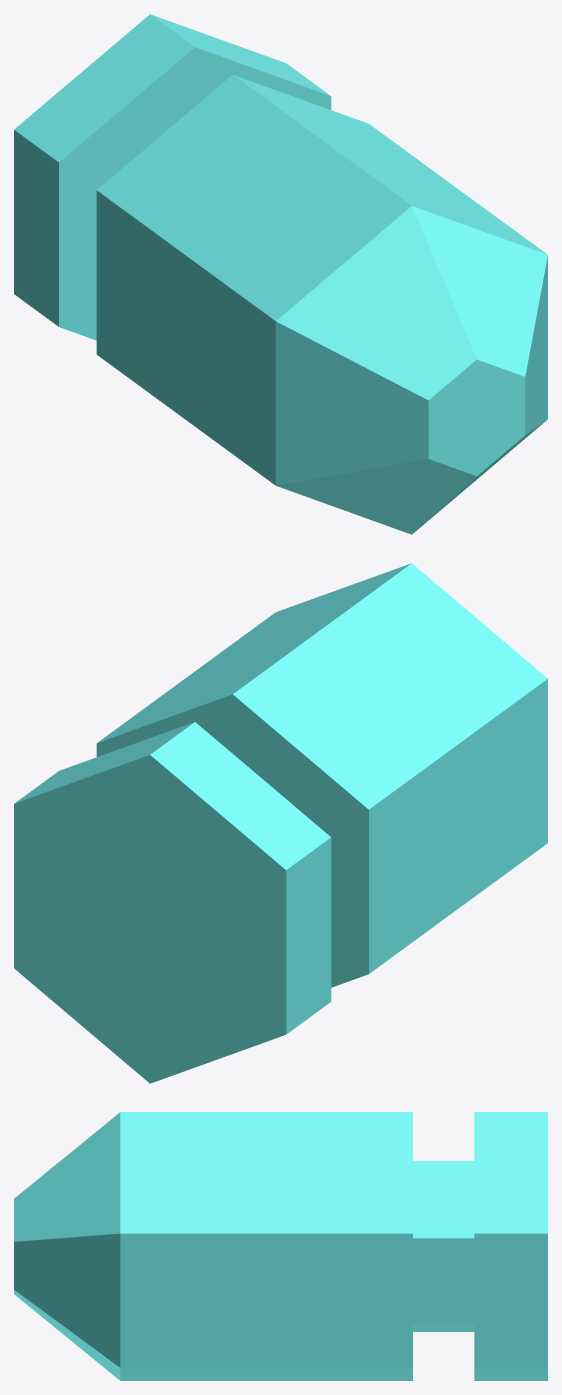
The model's file is PistolBullet.fbx.
The picture shows the model from 3 angles, top to bottom: view 1: azimuth 30°, elevation 25°; view 2: azimuth 150°, elevation 25°; view 3: azimuth 270°, elevation 25°; orthographic projection. The views are drawn at different scales.
Visible parts, largest first — view 1: PistolBullet; view 2: PistolBullet; view 3: PistolBullet.
Part boxes in pixels (x1,y1,x2,y2): PistolBullet: (14, 14, 547, 534); PistolBullet: (14, 563, 547, 1083); PistolBullet: (14, 1112, 547, 1380).
Size of the model in its own units: 0.0179 by 0.0207 by 0.0373.
